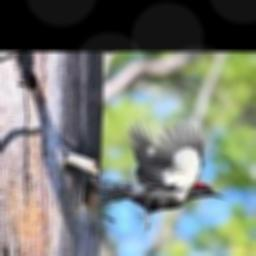Woodpecker: (93, 118, 228, 232)
